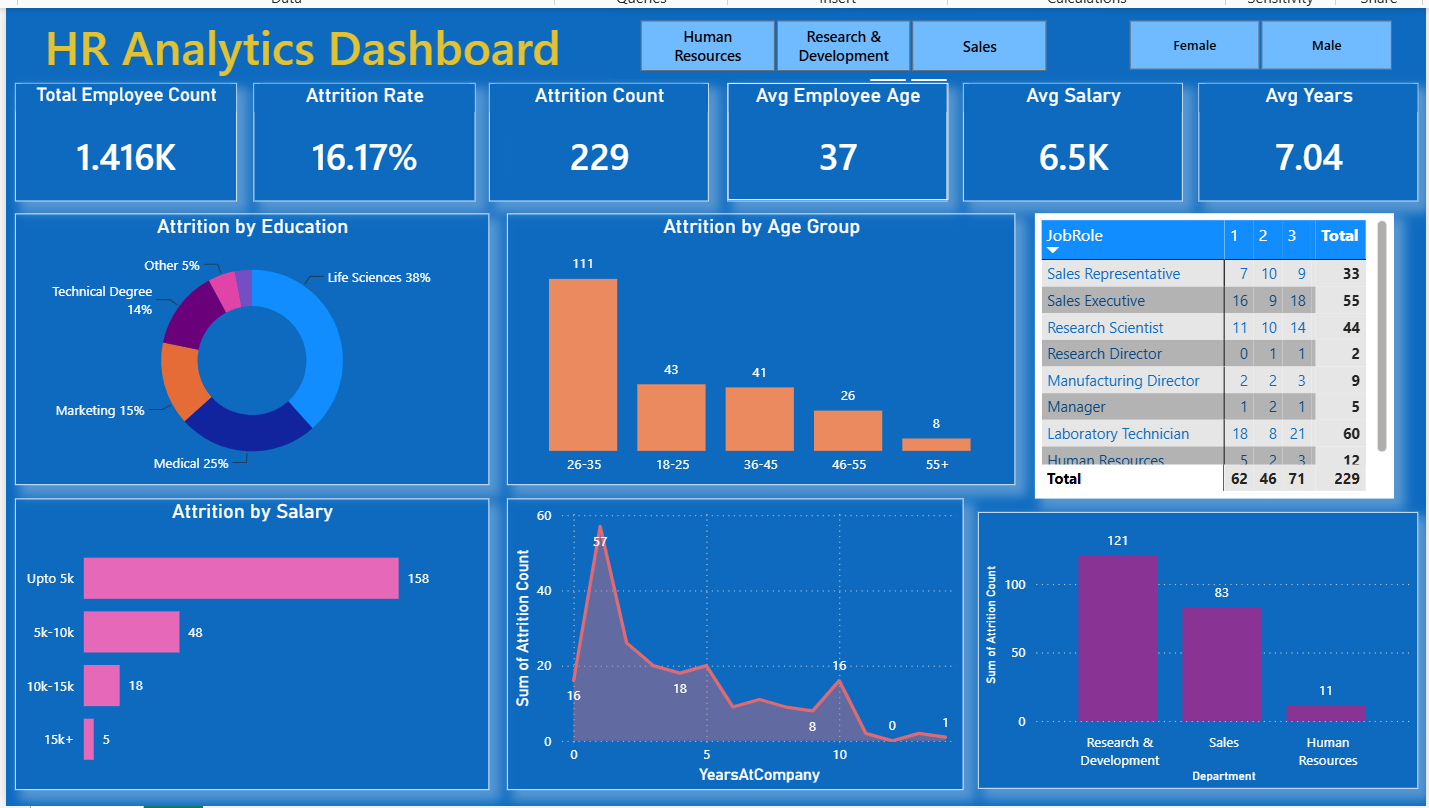

The page's visual inventory and layout, read from the dashboard file:
{"tool":"powerbi","page":{"name":"Page 1","canvas":[1280,720],"ordinal":0},"visuals":[{"type":"cardVisual","title":"Total Employee Count","fields":{"Data":["Sum(HR_Analytics.EmployeeCount)"]},"box":[8.7,67.1,199.7,106.4],"z":0},{"type":"cardVisual","title":"Attrition Rate","fields":{"Data":["HR_Analytics.Attrition Rate"]},"box":[223.1,67.1,199.7,106.4],"z":1000},{"type":"cardVisual","title":"Attrition Count","fields":{"Data":["Sum(HR_Analytics.Attrition Count)"]},"box":[435.9,67.1,198.3,106.4],"z":2000},{"type":"cardVisual","title":"Avg Employee Age","fields":{"Data":["Avg(HR_Analytics.Age)"]},"box":[650.2,67.1,198.3,106.4],"z":3000},{"type":"clusteredColumnChart","title":"Attrition by Age Group","fields":{"Category":["HR_Analytics.AgeGroup"],"Y":["Sum(HR_Analytics.Attrition Count)"]},"box":[451.9,185.1,457.8,244.9],"z":4000},{"type":"slicer","fields":{"Values":["HR_Analytics.Department"]},"box":[546.7,4.4,415.5,59.8],"z":5000},{"type":"slicer","fields":{"Values":["HR_Analytics.Gender"]},"box":[987,4.4,285.7,58.3],"z":6000},{"type":"areaChart","fields":{"Category":["HR_Analytics.YearsAtCompany"],"Y":["Sum(HR_Analytics.Attrition Count)"]},"box":[451.9,441.7,411.1,262.4],"z":7000},{"type":"cardVisual","title":"Avg Salary","fields":{"Data":["Avg(HR_Analytics.MonthlyIncome)"]},"box":[863.1,67.1,198.3,106.4],"z":8000},{"type":"cardVisual","title":"Avg Years","fields":{"Data":["Avg(HR_Analytics.YearsAtCompany)"]},"box":[1074.4,67.1,198.3,106.4],"z":9000},{"type":"donutChart","title":"Attrition by Education","fields":{"Category":["HR_Analytics.EducationField"],"Y":["Sum(HR_Analytics.Attrition Count)"]},"box":[8.7,185.1,427.2,244.9],"z":10000},{"type":"clusteredBarChart","title":"Attrition by Salary","fields":{"Category":["HR_Analytics.SalarySlab"],"Y":["Sum(HR_Analytics.Attrition Count)"]},"box":[8.7,441.7,427.2,262.4],"z":11000},{"type":"pivotTable","fields":{"Rows":["HR_Analytics.JobRole"],"Values":["Sum(HR_Analytics.Attrition Count)"],"Columns":["HR_Analytics.JobSatisfaction"]},"box":[927.2,185.1,323.6,256.6],"z":12000},{"type":"clusteredColumnChart","fields":{"Category":["HR_Analytics.Department"],"Y":["Sum(HR_Analytics.Attrition Count)"]},"box":[876.2,454.9,396.5,249.3],"z":13000},{"type":"textbox","box":[0,0,535,67.1],"z":14000}]}

Visuals, with their boxes in screenshot pixels (x1, y1, x2, y2):
"Total Employee Count" cardVisual: 2 77 230 198
"Attrition Rate" cardVisual: 247 77 475 198
"Attrition Count" cardVisual: 490 77 716 198
"Avg Employee Age" cardVisual: 735 77 961 198
"Attrition by Age Group" clusteredColumnChart: 508 211 1031 491
slicer - HR_Analytics.Department: 617 5 1091 73
slicer - HR_Analytics.Gender: 1119 5 1428 72
areaChart - HR_Analytics.YearsAtCompany x Sum(HR_Analytics.Attrition Count): 508 504 978 804
"Avg Salary" cardVisual: 978 77 1204 198
"Avg Years" cardVisual: 1219 77 1428 198
"Attrition by Education" donutChart: 2 211 490 491
"Attrition by Salary" clusteredBarChart: 2 504 490 804
pivotTable - HR_Analytics.JobRole x Sum(HR_Analytics.Attrition Count): 1051 211 1420 504
clusteredColumnChart - HR_Analytics.Department x Sum(HR_Analytics.Attrition Count): 993 519 1428 804
textbox: 0 0 603 77
